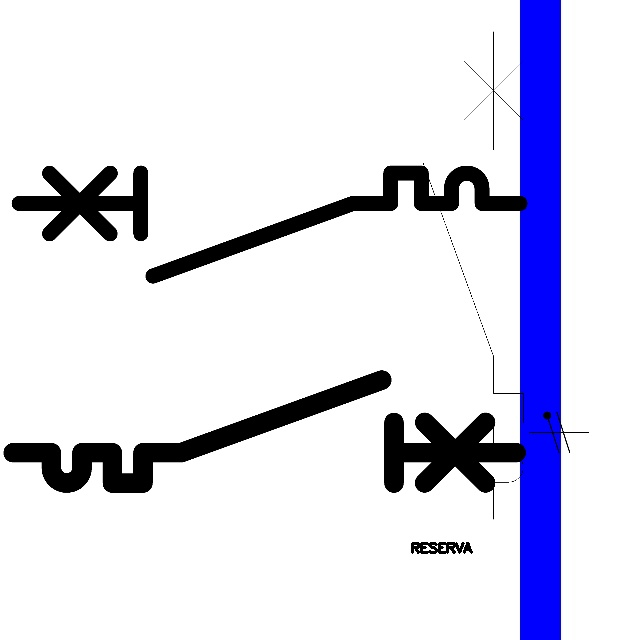interruptor_termomagnetico: (0, 367, 529, 496), (6, 160, 533, 289), (410, 19, 536, 532)
